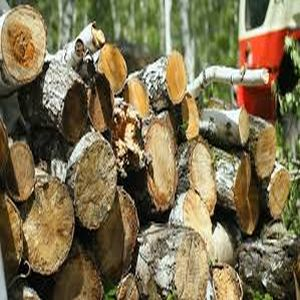log: (19, 179, 77, 277), (92, 187, 145, 284), (73, 137, 118, 231), (141, 114, 182, 216), (2, 4, 47, 83), (185, 138, 221, 213), (173, 230, 211, 300), (56, 79, 88, 144), (3, 143, 38, 201), (85, 73, 116, 133), (97, 44, 132, 97), (252, 123, 282, 181), (160, 50, 190, 107), (265, 165, 294, 220), (230, 152, 255, 213), (178, 94, 202, 141), (232, 105, 253, 151), (260, 67, 273, 89)
